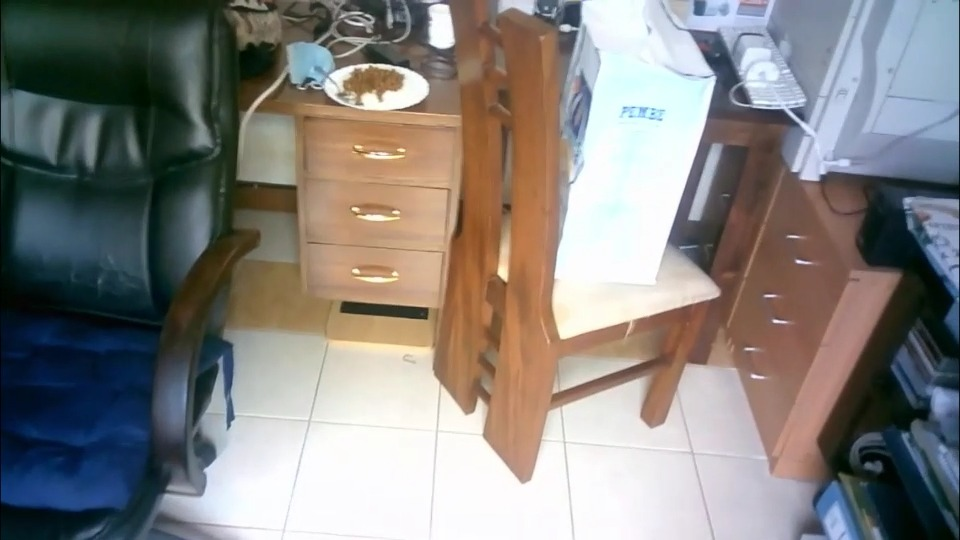wheat_flour_blue_label: (558, 0, 716, 285)
